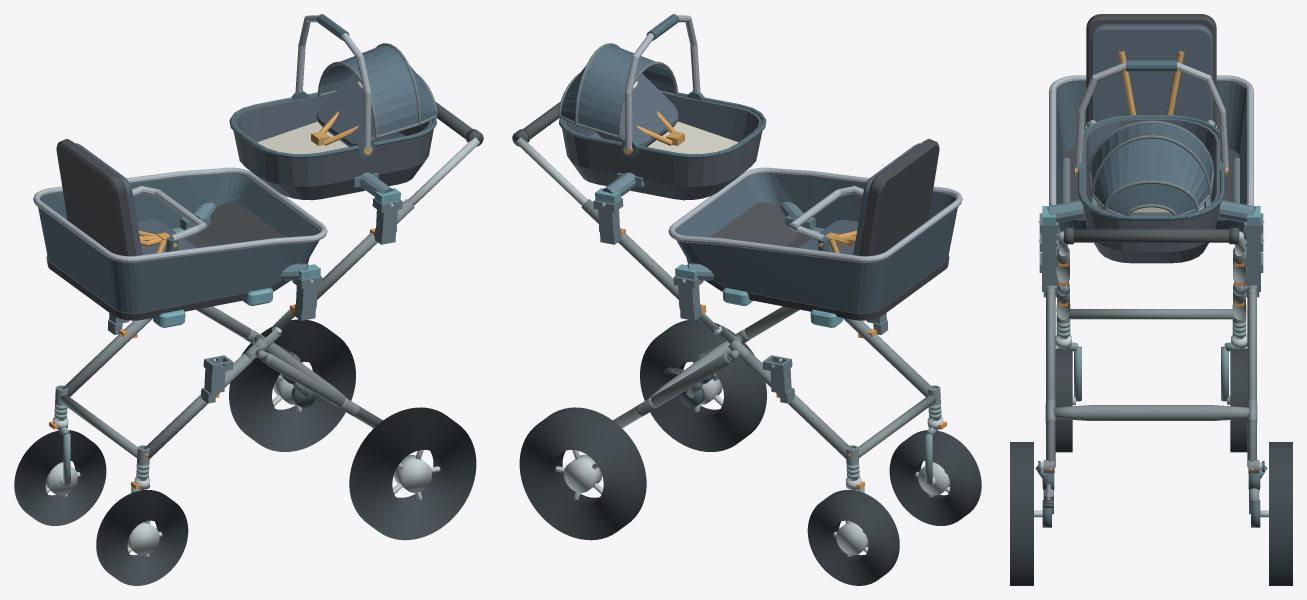
Rendered from D22_w550_state1_wheel_L.glb.
3 renders of one model, left to right at view 1: azimuth 30°, elevation 25°; view 2: azimuth 150°, elevation 25°; view 3: azimuth 270°, elevation 25°, orthographic. The views are drawn at different scales.
Parts seen in each view (by area): view 1: D22_Lower, D22_Upper, RL_tire.002, RR_tire.002, FL_tire.002, FR_tire.002, V46_rear_leg_-1.003, main_lower_-1.003, main_lower_1.003, main_upper_-1.003, D22_Lower_Mount_M, RL_sealed_hub.002 (+10 smaller); view 2: D22_Lower, D22_Upper, RR_tire.002, RL_tire.002, FR_tire.002, FL_tire.002, V46_rear_leg_1.003, main_lower_1.003, main_lower_-1.003, main_upper_1.003, RR_sealed_hub.002, D22_Lower_Mount_M (+10 smaller); view 3: D22_Upper, D22_Lower, RL_tire.002, RR_tire.002, V46_rearbar.003, round_handle.002, front_fixed_round_tube.002, D22_Upper_Mount_H, FL_tire.002, FR_tire.002, V46_rear_leg_1.003, V46_rear_leg_-1.003 (+6 smaller).
Boxes of the visible parts, left/top/right/bottom form: D22_Lower: left=33, top=139, right=327, bottom=327; D22_Upper: left=229, top=14, right=437, bottom=200; RL_tire.002: left=349, top=407, right=476, bottom=540; RR_tire.002: left=229, top=319, right=355, bottom=451; FL_tire.002: left=96, top=490, right=188, bottom=585; FR_tire.002: left=14, top=430, right=106, bottom=525; V46_rear_leg_-1.003: left=264, top=353, right=382, bottom=428; main_lower_-1.003: left=144, top=354, right=255, bottom=459; main_lower_1.003: left=62, top=318, right=152, bottom=396; main_upper_-1.003: left=295, top=199, right=414, bottom=304; D22_Lower_Mount_M: left=180, top=202, right=320, bottom=282; RL_sealed_hub.002: left=393, top=454, right=432, bottom=492; D22_Lower: left=668, top=139, right=962, bottom=327; D22_Upper: left=558, top=14, right=766, bottom=200; RR_tire.002: left=519, top=407, right=646, bottom=540; RL_tire.002: left=640, top=319, right=766, bottom=451; FR_tire.002: left=807, top=490, right=899, bottom=585; FL_tire.002: left=889, top=430, right=981, bottom=525; V46_rear_leg_1.003: left=613, top=353, right=731, bottom=428; main_lower_1.003: left=740, top=354, right=851, bottom=459; main_lower_-1.003: left=843, top=318, right=933, bottom=396; main_upper_1.003: left=581, top=199, right=700, bottom=304; RR_sealed_hub.002: left=563, top=454, right=602, bottom=492; D22_Lower_Mount_M: left=675, top=202, right=815, bottom=282; D22_Upper: left=1074, top=60, right=1228, bottom=263; D22_Lower: left=1049, top=14, right=1253, bottom=243; RL_tire.002: left=1010, top=442, right=1033, bottom=585; RR_tire.002: left=1269, top=442, right=1292, bottom=585; V46_rearbar.003: left=1053, top=405, right=1249, bottom=420; round_handle.002: left=1063, top=229, right=1239, bottom=242; front_fixed_round_tube.002: left=1068, top=309, right=1234, bottom=319; D22_Upper_Mount_H: left=1038, top=197, right=1264, bottom=224; FL_tire.002: left=1055, top=348, right=1072, bottom=452; FR_tire.002: left=1230, top=348, right=1247, bottom=452; V46_rear_leg_1.003: left=1247, top=292, right=1256, bottom=467; V46_rear_leg_-1.003: left=1046, top=292, right=1055, bottom=467.
Bounding box in the file's own units: 1.19 × 1.4 × 0.7071.
